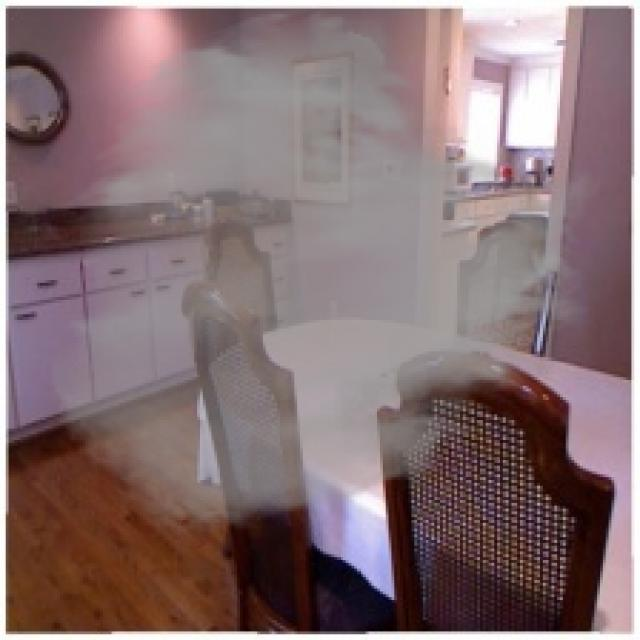smoke: (46, 6, 603, 537)
